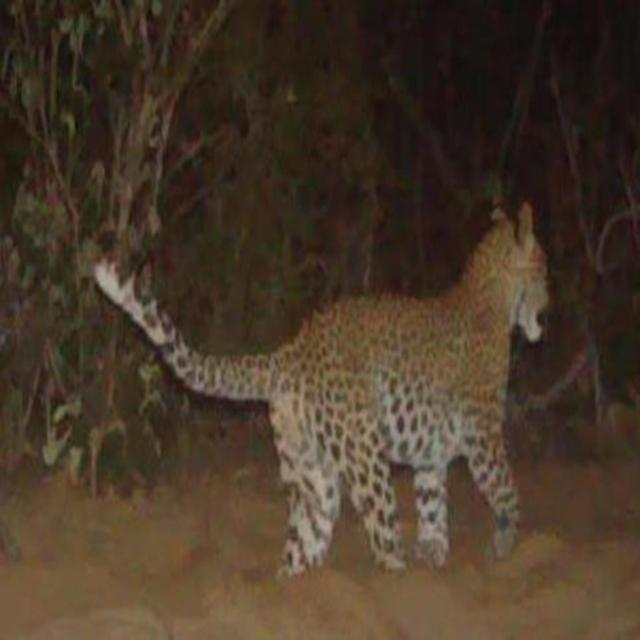Leopard: (126, 229, 541, 600)
